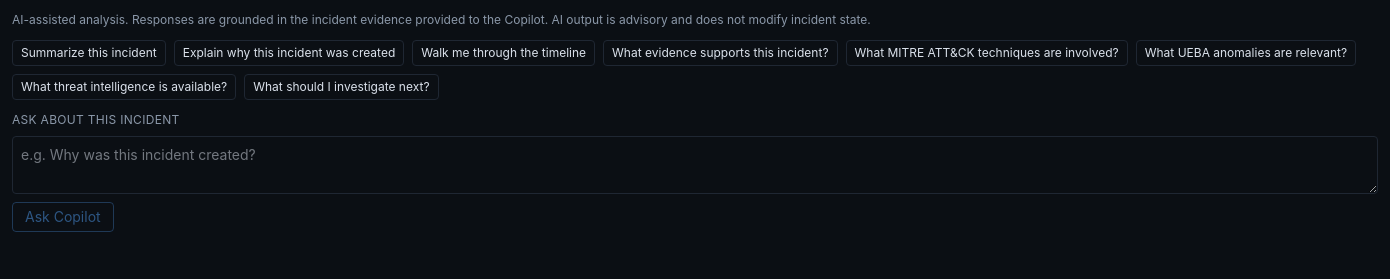
it: copilot section › shows the unavailable state when the provider is down
In the text box labelled "Ask about this incident": (695, 165) x1=12 y1=136 x2=1378 y2=194, type "Summarize this incident"
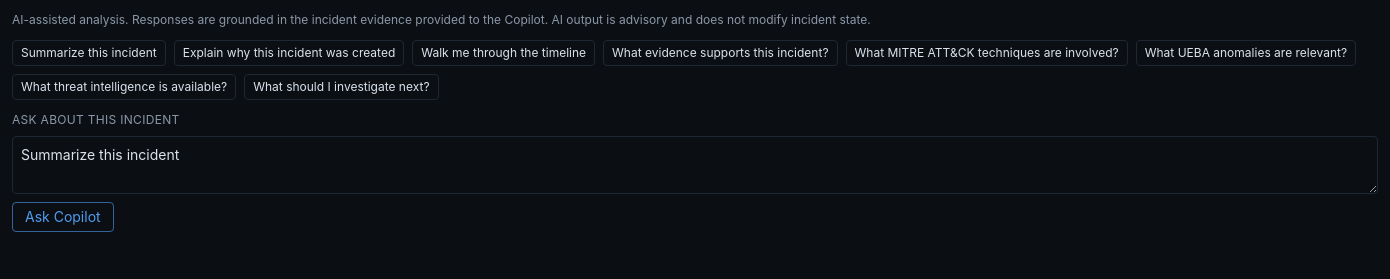
Click the button "Ask Copilot": (63, 217) x1=12 y1=202 x2=114 y2=232
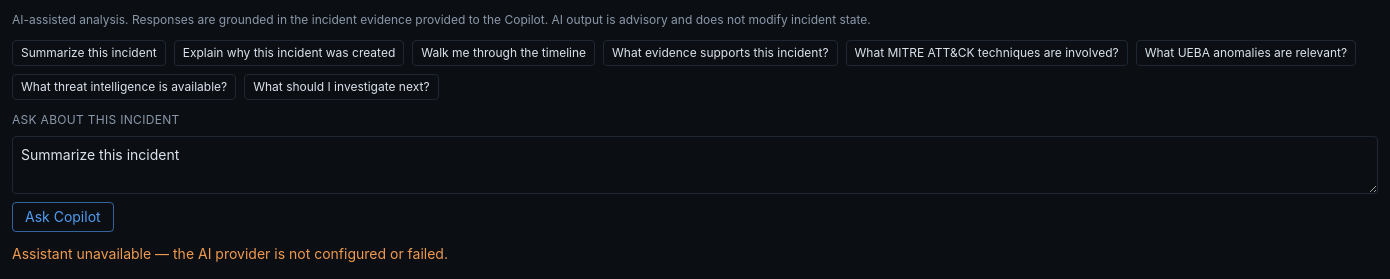
Result: the message shows "Assistant unavailable" at x1=12 y1=245 x2=448 y2=262
